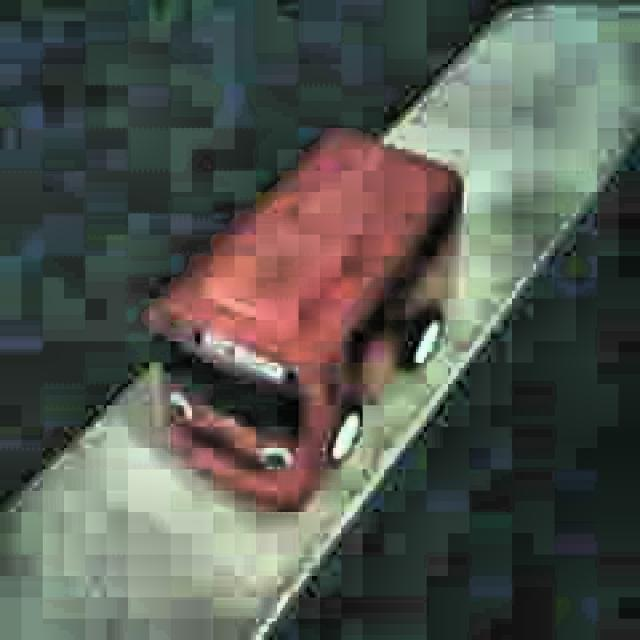bus: (145, 125, 463, 510)
